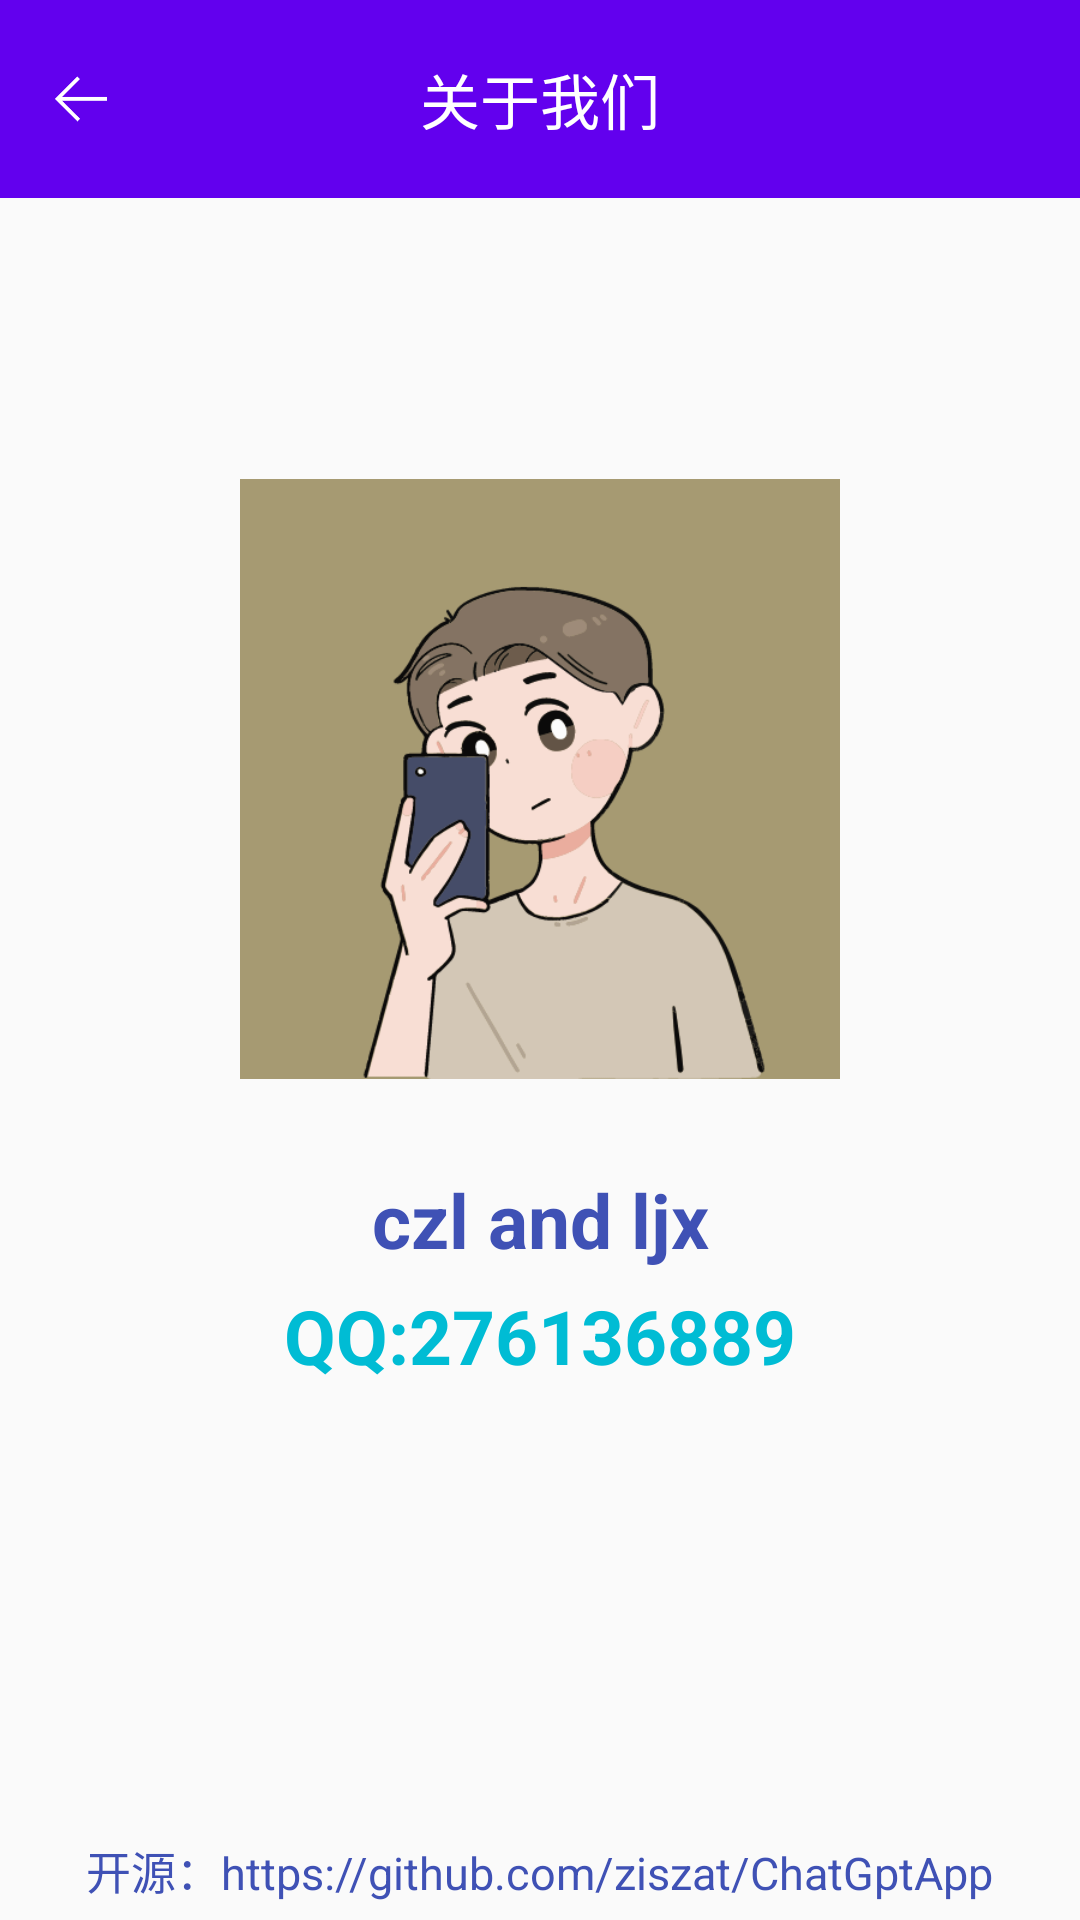

Where icons sit on this 1080*1920 app screen, as (x1, y1, x2, y2):
left arrow: (55, 76, 107, 122)
